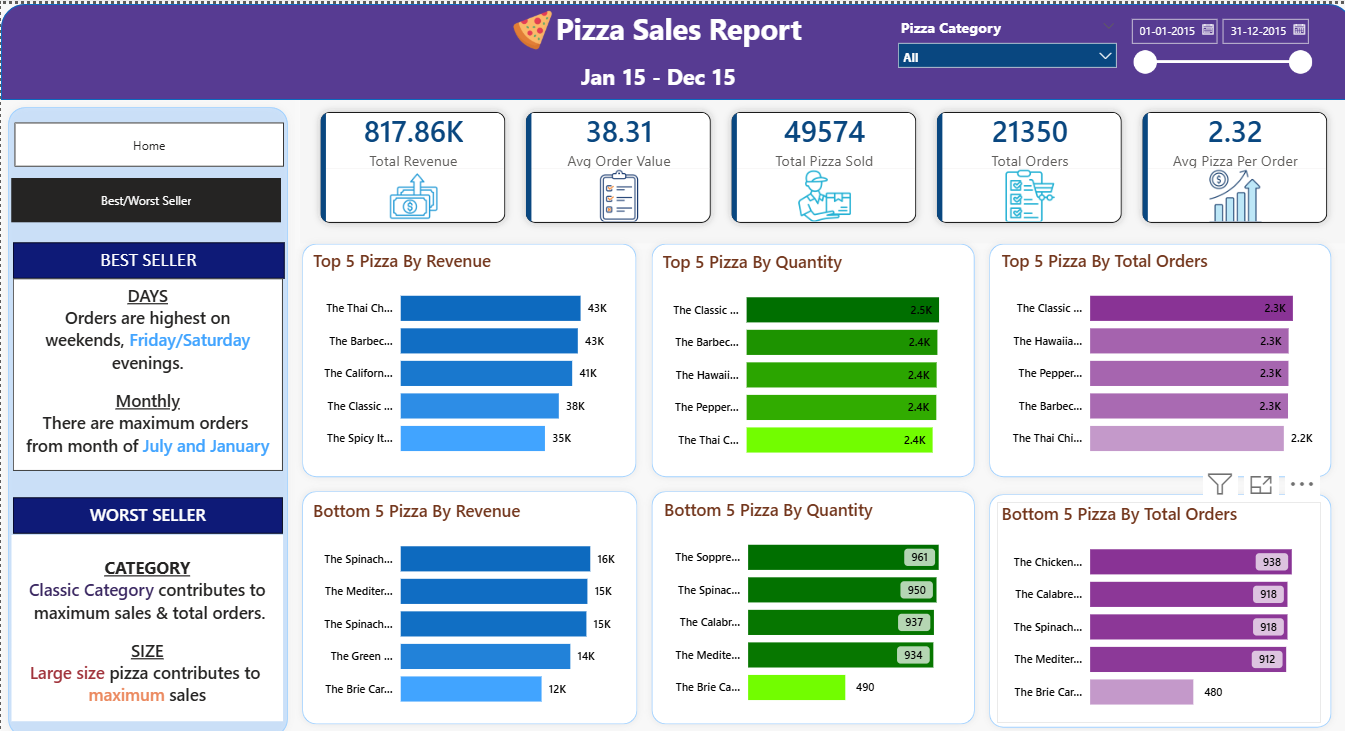

Layout of this report page (visuals, bound fields, positions):
{"tool":"powerbi","page":{"name":"Best/Worst Seller","canvas":[1500,820],"ordinal":1},"visuals":[{"type":"shape","box":[0,106.5,326.2,714],"z":0},{"type":"cardVisual","fields":{"Data":["pizza_sales.Total Revenue","pizza_sales.Avg Order Value","pizza_sales.Total Pizza Sold","pizza_sales.Total Orders","pizza_sales.Avg Pizza Per Order"]},"box":[326.2,91.5,1173.4,179.8],"z":1000},{"type":"shape","box":[0,0,1499.4,106.5],"z":2000},{"type":"textbox","box":[502.2,0,498.6,58.6],"z":3000},{"type":"textbox","box":[615.7,58.6,227.1,47.9],"z":4000},{"type":"image","box":[564.3,7.1,51.5,44.4],"z":5000},{"type":"shape","box":[326.5,257.3,386.8,275],"z":6000},{"type":"textbox","box":[13.3,264.6,301.3,39.9],"z":11000},{"type":"textbox","box":[13.3,304.6,299.6,213],"z":16000},{"type":"textbox","box":[13.3,547.6,299.6,39.9],"z":17000},{"type":"textbox","box":[11.7,589.2,301.3,206.4],"z":18000},{"type":"slicer","fields":{"Values":["pizza_sales.pizza_category"]},"box":[984.8,10.6,262.6,85.2],"z":19000},{"type":"slicer","fields":{"Values":["pizza_sales.order_date"]},"box":[1242.1,7.1,221.8,85.2],"z":20000},{"type":"shape","box":[713.3,257.3,374.4,275],"z":20001},{"type":"shape","box":[1087.7,257.3,395.7,275],"z":20002},{"type":"shape","box":[326.2,532.6,387.8,274.6],"z":20003},{"type":"shape","box":[714,532.6,374.5,274.6],"z":20004},{"type":"shape","box":[1087.7,535.9,395.7,275],"z":20005},{"type":"barChart","title":"Top 5 Pizza By Revenue","fields":{"Category":["pizza_sales.pizza_name"],"Y":["pizza_sales.Total Revenue"]},"box":[340.7,271.5,356.7,244.9],"z":20006},{"type":"barChart","title":"Bottom 5 Pizza By Revenue","fields":{"Category":["pizza_sales.pizza_name"],"Y":["pizza_sales.Total Revenue"]},"box":[340.7,550.1,356.7,244.9],"z":20007},{"type":"barChart","title":"Top 5 Pizza By Quantity","fields":{"Category":["pizza_sales.pizza_name"],"Y":["pizza_sales.Total Pizza Sold"]},"box":[729.3,273.3,340.7,244.9],"z":20008},{"type":"barChart","title":"Bottom 5 Pizza By Quantity","fields":{"Category":["pizza_sales.pizza_name"],"Y":["pizza_sales.Total Pizza Sold"]},"box":[731.1,548.3,338.9,244.9],"z":20009},{"type":"barChart","title":"Top 5 Pizza By Total Orders","fields":{"Category":["pizza_sales.pizza_name"],"Y":["pizza_sales.Total Orders"]},"box":[1105.5,271.5,358.4,244.9],"z":20010},{"type":"barChart","title":"Bottom 5 Pizza By Total Orders","fields":{"Category":["pizza_sales.pizza_name"],"Y":["pizza_sales.Total Orders"]},"box":[1105.5,551.9,358.4,244.9],"z":20011},{"type":"pageNavigator","box":[14.2,131.3,299.9,49.7],"z":20012},{"type":"pageNavigator","box":[12.4,193.4,299.9,49.7],"z":20013}]}

Visuals, with their boxes in screenshot pixels (x1, y1, x2, y2), scaled from the page's 1500x820 canvas onto the 1345x731 screenshot:
shape: {"x1": 0, "y1": 95, "x2": 292, "y2": 730}
cardVisual - pizza_sales.Total Revenue x pizza_sales.Avg Order Value: {"x1": 292, "y1": 82, "x2": 1344, "y2": 242}
shape: {"x1": 0, "y1": 0, "x2": 1344, "y2": 95}
textbox: {"x1": 450, "y1": 0, "x2": 897, "y2": 52}
textbox: {"x1": 552, "y1": 52, "x2": 756, "y2": 95}
image: {"x1": 506, "y1": 6, "x2": 552, "y2": 46}
shape: {"x1": 293, "y1": 229, "x2": 640, "y2": 475}
textbox: {"x1": 12, "y1": 236, "x2": 282, "y2": 271}
textbox: {"x1": 12, "y1": 272, "x2": 281, "y2": 461}
textbox: {"x1": 12, "y1": 488, "x2": 281, "y2": 524}
textbox: {"x1": 10, "y1": 525, "x2": 281, "y2": 709}
slicer - pizza_sales.pizza_category: {"x1": 883, "y1": 9, "x2": 1119, "y2": 85}
slicer - pizza_sales.order_date: {"x1": 1114, "y1": 6, "x2": 1313, "y2": 82}
shape: {"x1": 640, "y1": 229, "x2": 975, "y2": 475}
shape: {"x1": 975, "y1": 229, "x2": 1330, "y2": 475}
shape: {"x1": 292, "y1": 475, "x2": 640, "y2": 720}
shape: {"x1": 640, "y1": 475, "x2": 976, "y2": 720}
shape: {"x1": 975, "y1": 478, "x2": 1330, "y2": 723}
"Top 5 Pizza By Revenue" barChart: {"x1": 305, "y1": 242, "x2": 625, "y2": 460}
"Bottom 5 Pizza By Revenue" barChart: {"x1": 305, "y1": 490, "x2": 625, "y2": 709}
"Top 5 Pizza By Quantity" barChart: {"x1": 654, "y1": 244, "x2": 959, "y2": 462}
"Bottom 5 Pizza By Quantity" barChart: {"x1": 656, "y1": 489, "x2": 959, "y2": 707}
"Top 5 Pizza By Total Orders" barChart: {"x1": 991, "y1": 242, "x2": 1313, "y2": 460}
"Bottom 5 Pizza By Total Orders" barChart: {"x1": 991, "y1": 492, "x2": 1313, "y2": 710}
pageNavigator: {"x1": 13, "y1": 117, "x2": 282, "y2": 161}
pageNavigator: {"x1": 11, "y1": 172, "x2": 280, "y2": 217}
